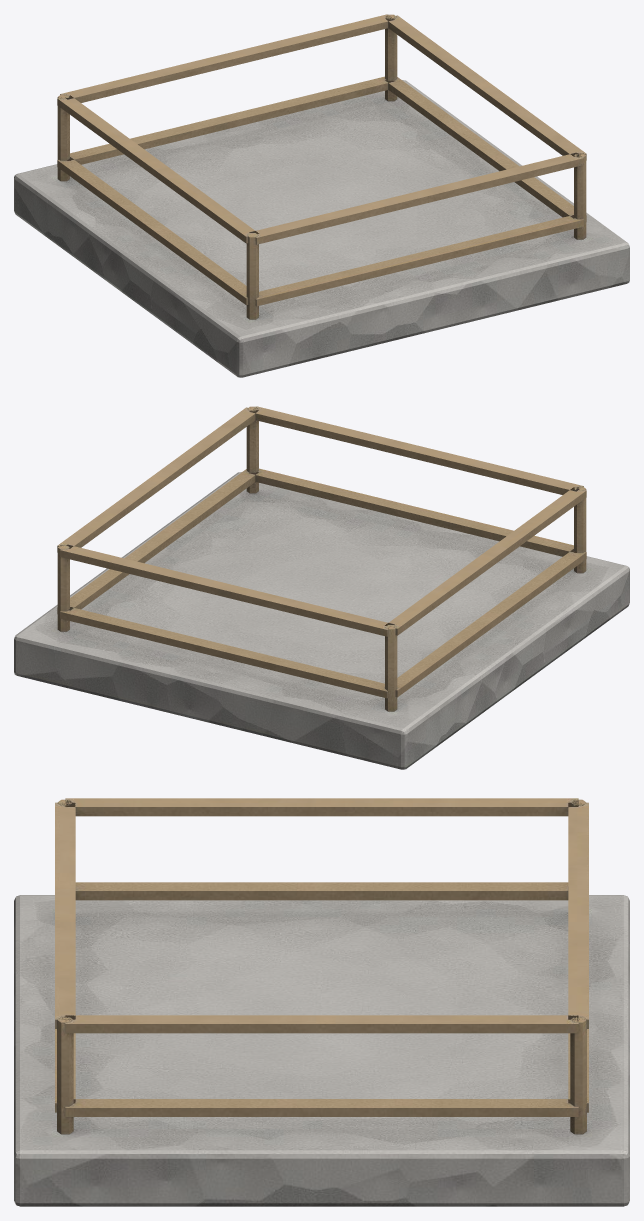
The model's file is jahr0.glb.
3 renders of one model, top to bottom at view 1: azimuth 30°, elevation 25°; view 2: azimuth 150°, elevation 25°; view 3: azimuth 270°, elevation 25°, orthographic. The views are drawn at different scales.
Visible parts, largest first — view 1: jahr0; view 2: jahr0; view 3: jahr0.
Part boxes in pixels (box(x1,y1,x2,y2)): jahr0: box(14, 14, 629, 377); jahr0: box(14, 406, 629, 769); jahr0: box(14, 798, 629, 1206).
Bounding box in the file's own units: 0.6 × 0.18 × 0.6.
1 material, 1 textured.
